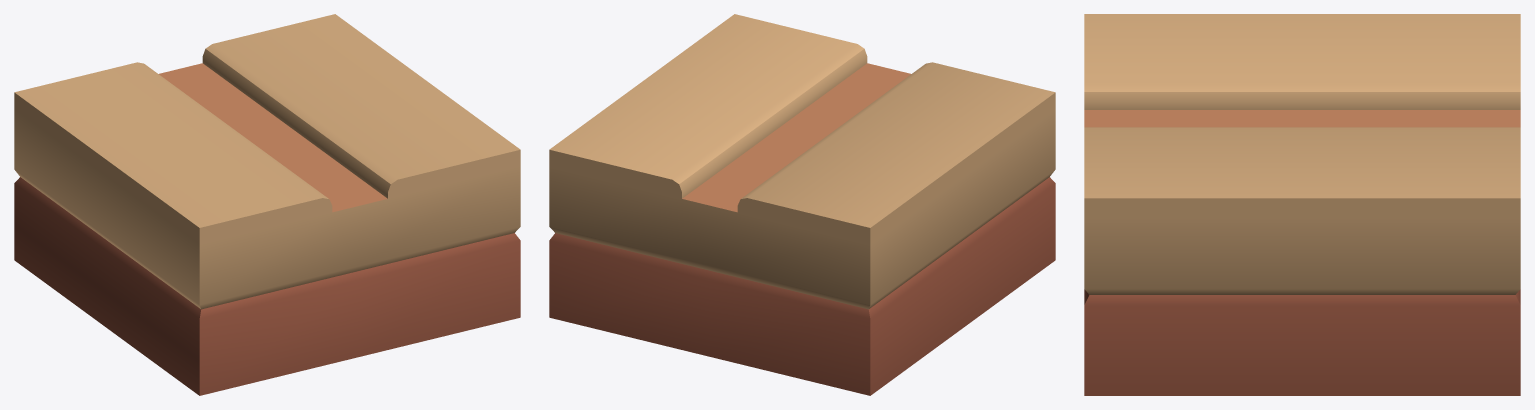
The model's file is square_sand_roadB_detail.glb.
The picture shows the model from 3 angles, left to right: view 1: azimuth 30°, elevation 25°; view 2: azimuth 150°, elevation 25°; view 3: azimuth 270°, elevation 25°; orthographic projection. The views are drawn at different scales.
Visible parts, largest first — view 1: square_sand_roadB_detail; view 2: square_sand_roadB_detail; view 3: square_sand_roadB_detail.
Boxes of the visible parts, x1,y1,x2,y2 form: square_sand_roadB_detail: (14,14,520,395); square_sand_roadB_detail: (549,14,1055,395); square_sand_roadB_detail: (1084,14,1520,395).
Bounding box in the file's own units: 2.4 × 1.2 × 2.4.
